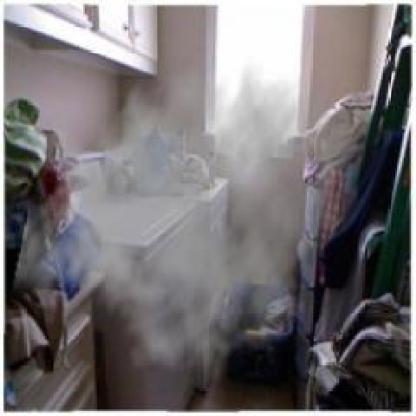Smoke: (10, 30, 364, 386)
